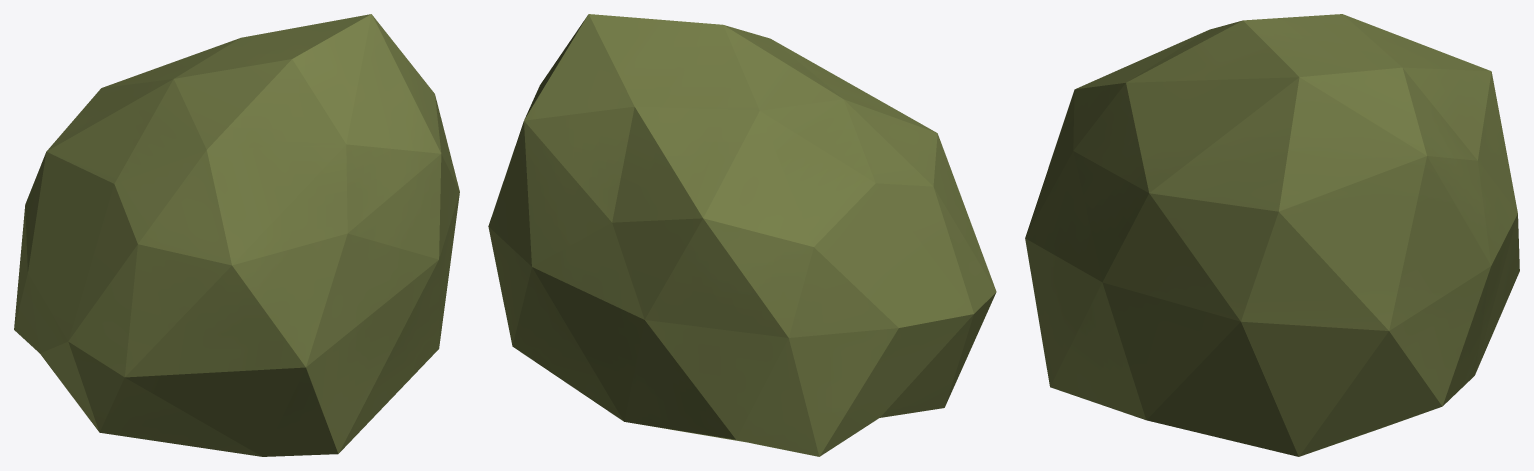
The model's file is bush_A.obj.
3 views of the same model, side by side, from view 1: azimuth 30°, elevation 25°; view 2: azimuth 150°, elevation 25°; view 3: azimuth 270°, elevation 25° (orthographic). The views are drawn at different scales.
Parts seen in each view (by area): view 1: bush_A; view 2: bush_A; view 3: bush_A.
Boxes of the visible parts, x1,y1,x2,y2 form: bush_A: [14, 14, 459, 456]; bush_A: [488, 14, 996, 456]; bush_A: [1025, 14, 1519, 456].
Bounding box in the file's own units: 1.6 × 1.32 × 1.45.
